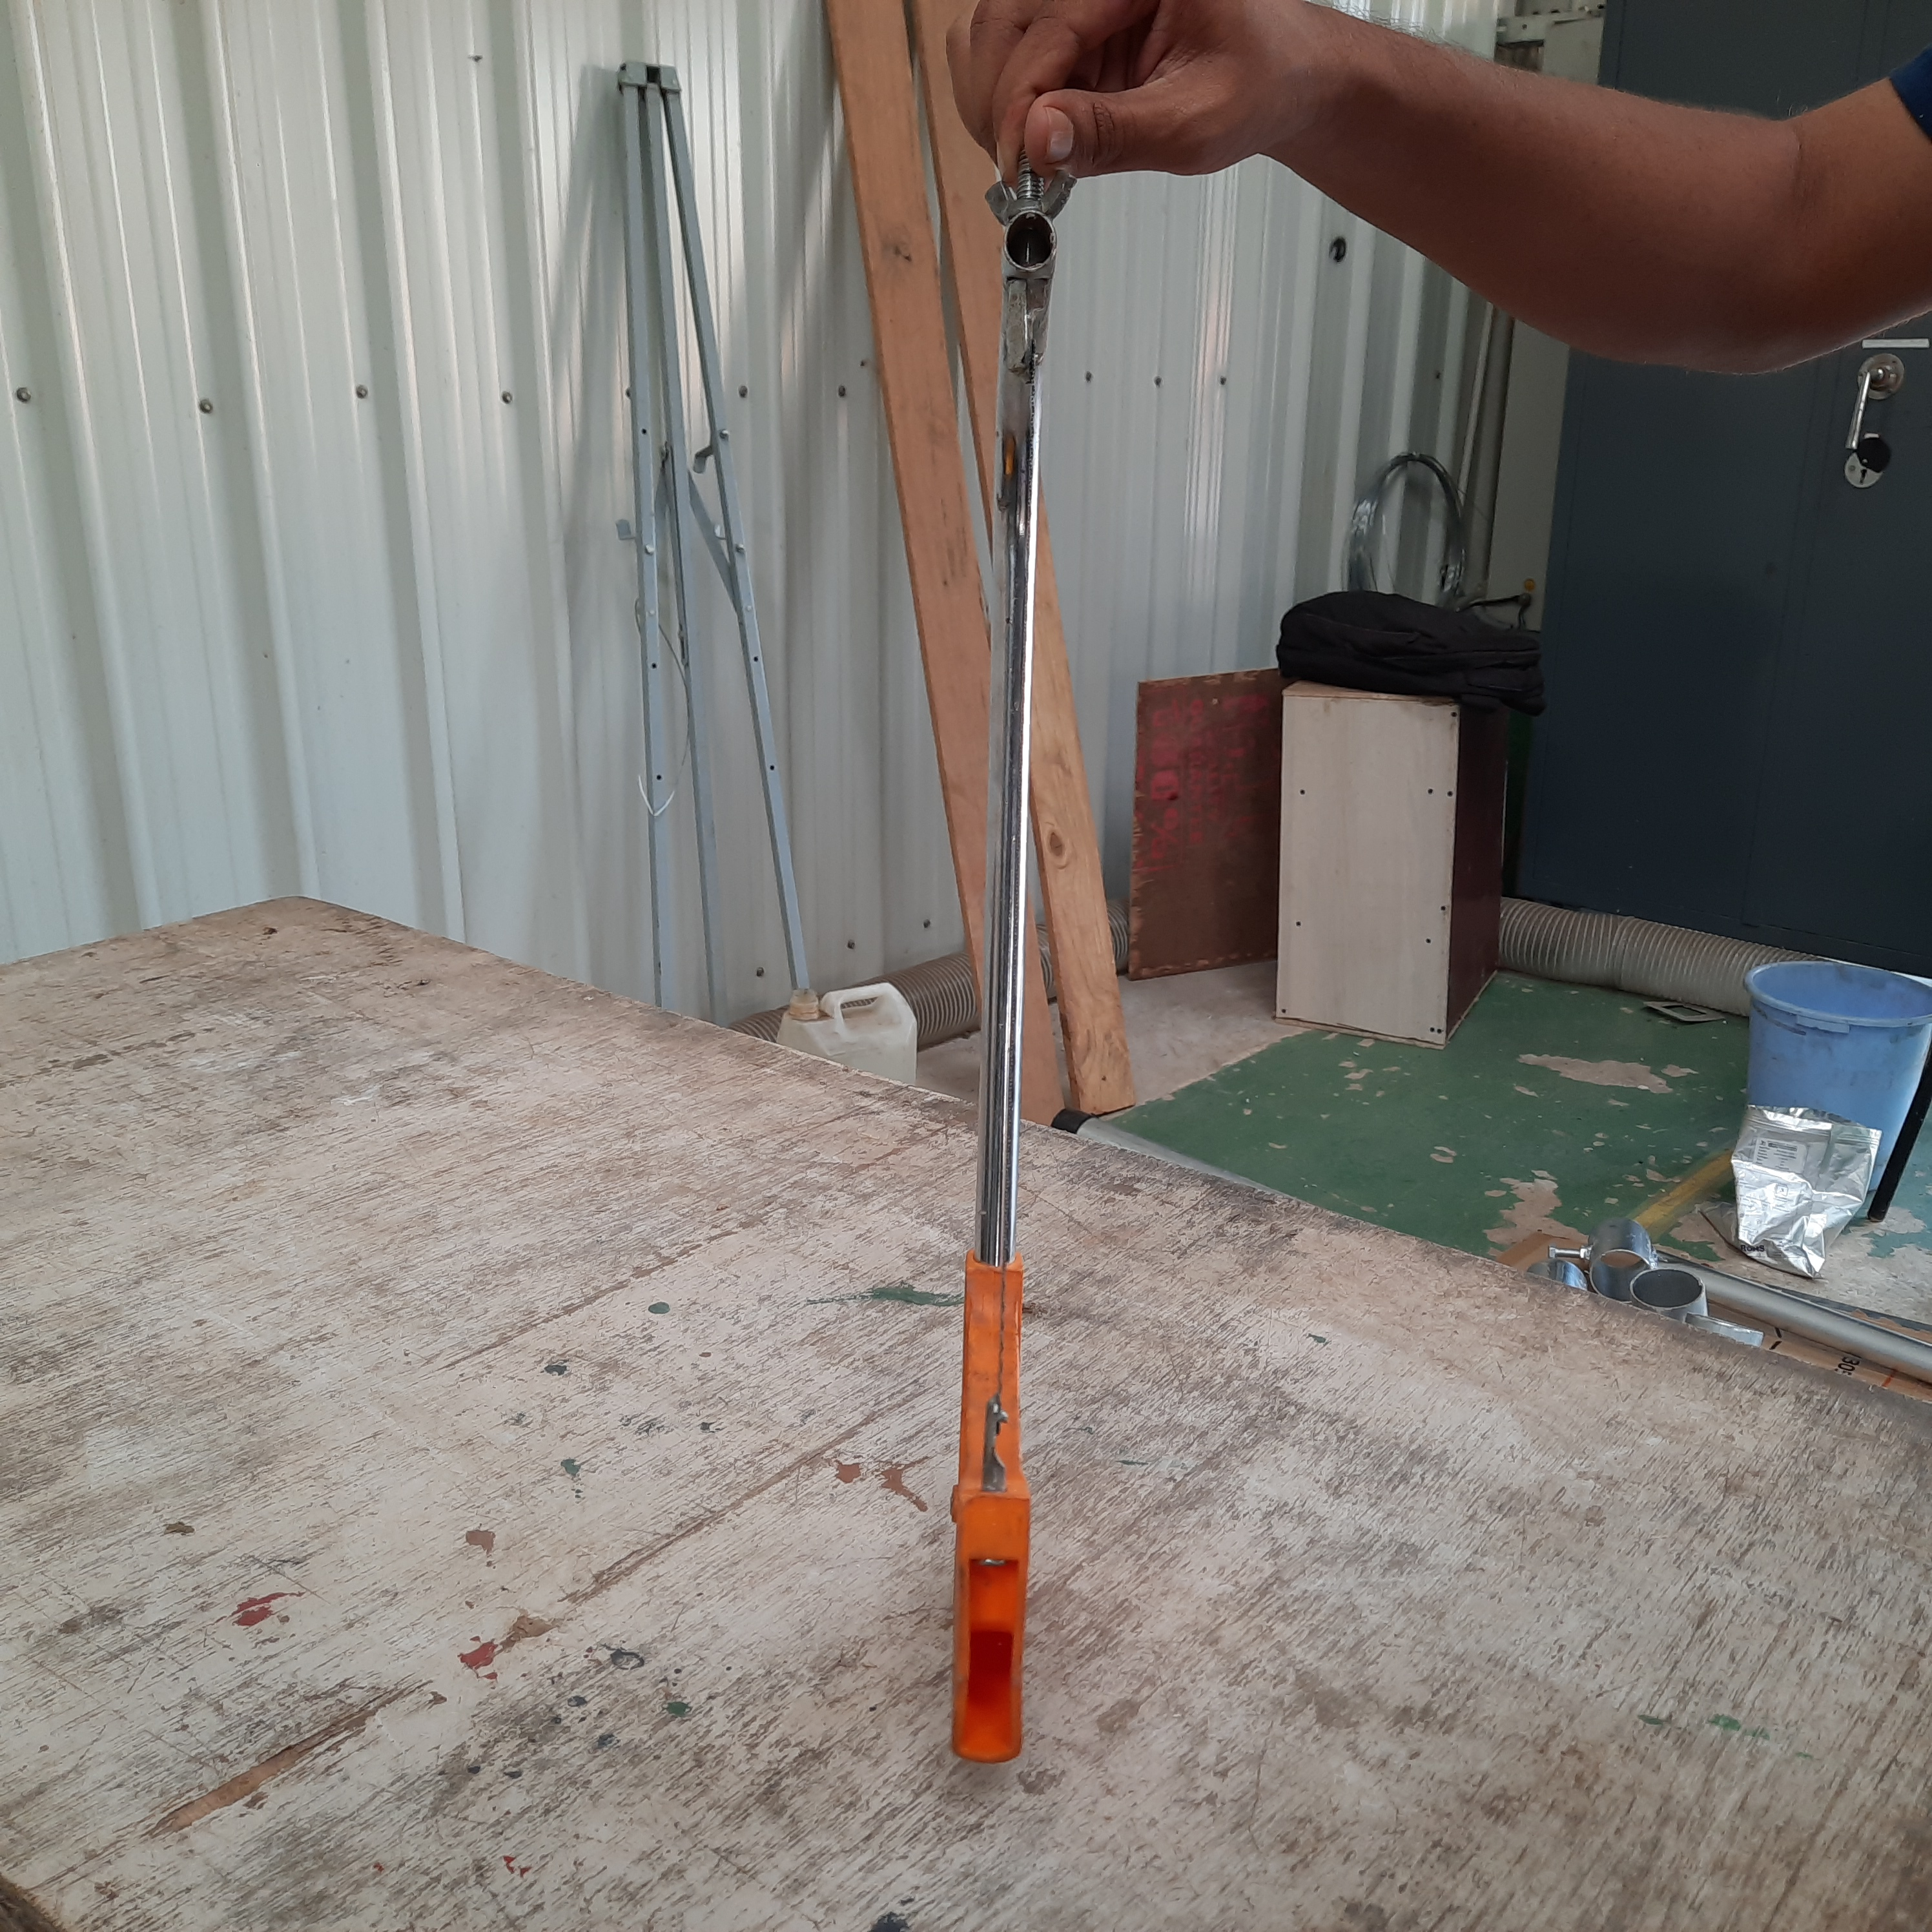Hexaframe: (913, 159, 1104, 1780)
